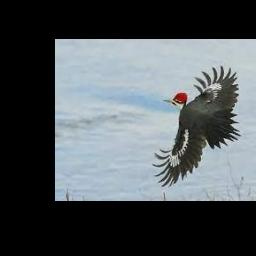Woodpecker: (151, 64, 241, 186)
